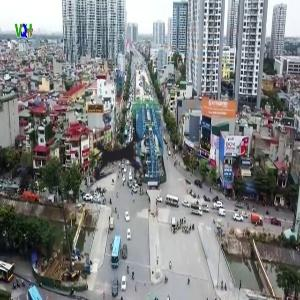drone: (52, 95, 184, 227)
